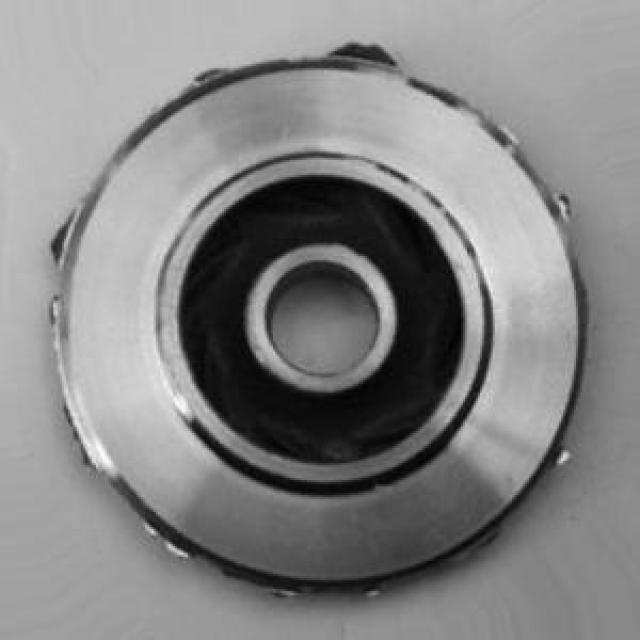Defect: (318, 29, 400, 71)
